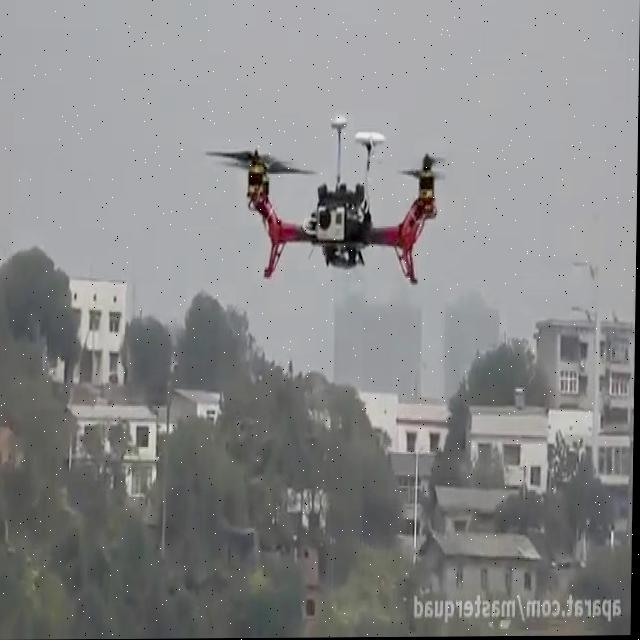drone: (204, 108, 454, 288)
